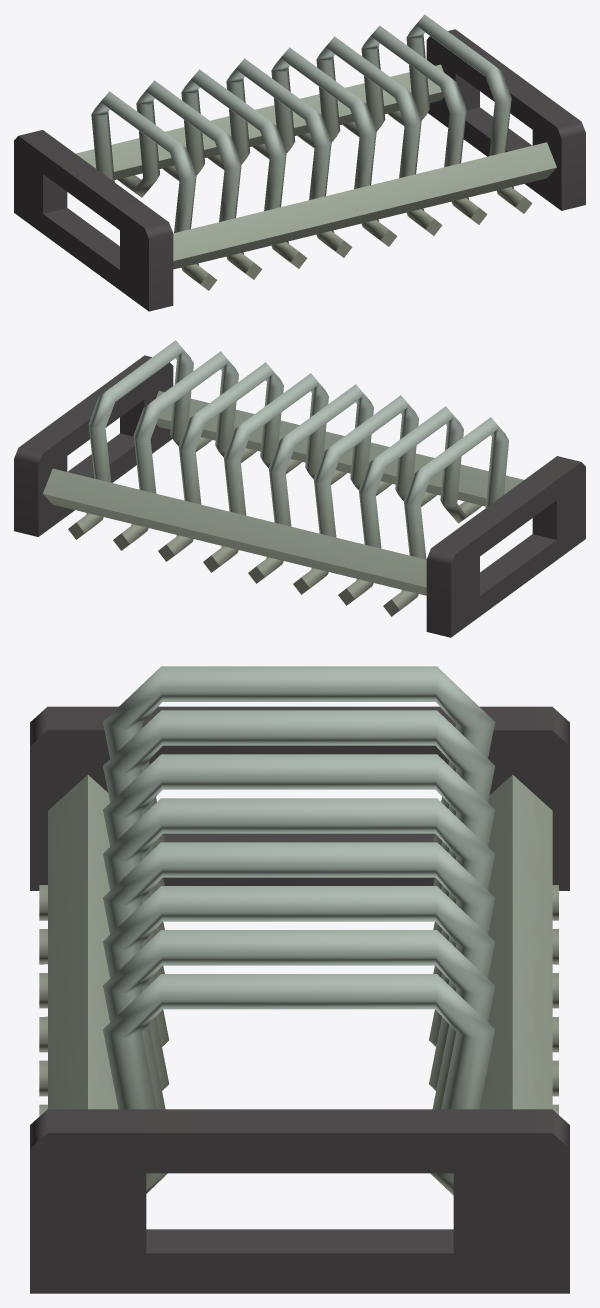
The model's file is SM_Plate_Stand_01.fbx.
3 renders of one model, top to bottom at view 1: azimuth 30°, elevation 25°; view 2: azimuth 150°, elevation 25°; view 3: azimuth 270°, elevation 25°, orthographic. The views are drawn at different scales.
Parts seen in each view (by area): view 1: SM_Plate_Stand_01; view 2: SM_Plate_Stand_01; view 3: SM_Plate_Stand_01.
Part boxes in pixels (x1,y1,x2,y2): SM_Plate_Stand_01: [14, 14, 585, 311]; SM_Plate_Stand_01: [14, 340, 585, 637]; SM_Plate_Stand_01: [30, 666, 569, 1293].
Size of the model in its own units: 50.59 by 14.46 by 27.08.
